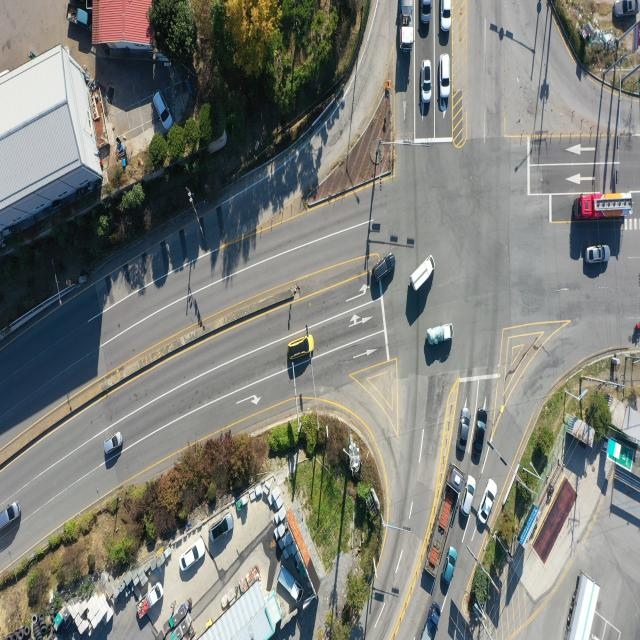car: (178, 540, 208, 574), (369, 250, 396, 282), (479, 479, 498, 523), (288, 335, 316, 364), (154, 90, 174, 130), (474, 406, 488, 461), (0, 502, 21, 534), (211, 517, 234, 545), (458, 408, 471, 454), (462, 475, 476, 517), (444, 545, 458, 583), (421, 61, 433, 104), (441, 54, 452, 100), (104, 431, 123, 454), (586, 246, 610, 264), (615, 0, 639, 18), (442, 0, 453, 32), (421, 0, 433, 24)
medium_truck: (424, 460, 464, 582), (564, 575, 600, 640), (576, 194, 635, 222), (400, 0, 414, 52)
small_truck: (278, 563, 303, 607), (137, 583, 165, 618), (410, 257, 436, 294), (421, 602, 442, 640), (426, 324, 453, 348), (66, 1, 89, 27)
